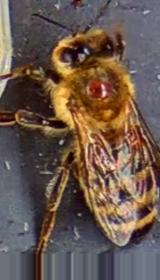varroa_mite: (78, 77, 116, 107)
